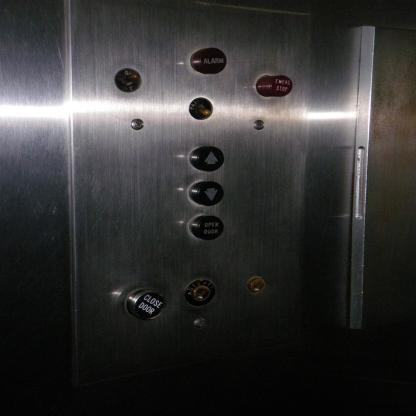down: (188, 181, 224, 206)
keyhole: (183, 279, 215, 307), (245, 274, 266, 296)
switch: (114, 67, 142, 93), (188, 96, 214, 121)
text: (191, 46, 227, 76)
text_close door: (125, 289, 165, 320)
text_open door: (189, 215, 223, 240)
text_stop: (255, 74, 292, 97)
up: (189, 146, 225, 172)
